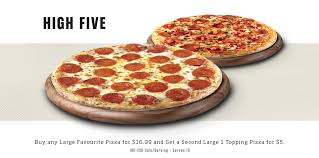pizza: (59, 49, 221, 114), (146, 8, 279, 59)
